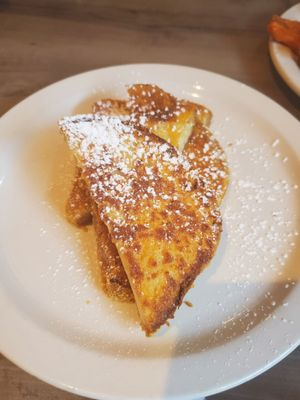curry: (0, 1, 299, 368)
